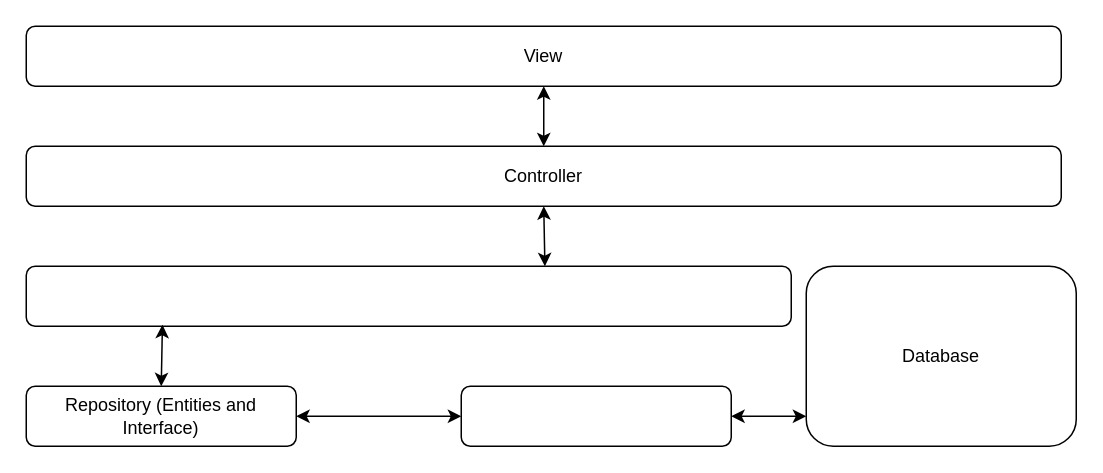
Some shapes in this 1103 by 473 pixel diagram are drawn without their labels. The shapes that lost their labels are listed below. From the top down, each one's centre as x and y in pixels, then its label:
At (x=408, y=295): "Service".
At (x=595, y=415): "JDBC Driver".
